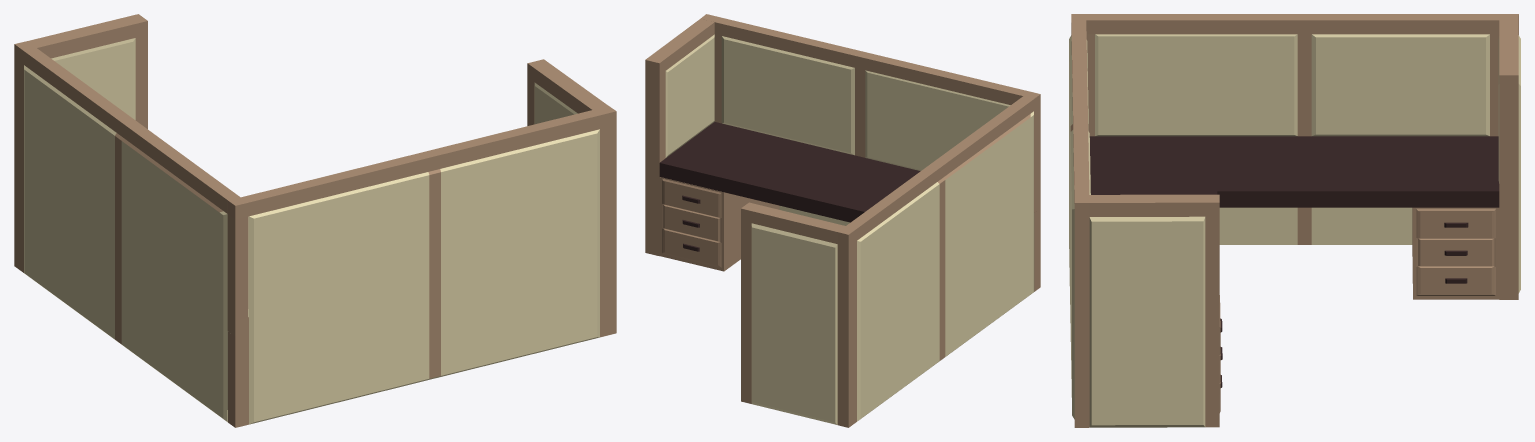
Rendered from BLS_SalesCubicle_Shanna 1.fbx.
3 renders of one model, left to right at view 1: azimuth 30°, elevation 25°; view 2: azimuth 150°, elevation 25°; view 3: azimuth 270°, elevation 25°, orthographic. The views are drawn at different scales.
Parts seen in each view (by area): view 1: Cube; view 2: Cube; view 3: Cube.
Boxes of the visible parts, <box> form: Cube: <box>14,14,616,427</box>; Cube: <box>645,14,1040,427</box>; Cube: <box>1069,14,1520,427</box>.
Size of the model in its own units: 1046 by 575 by 1046.
